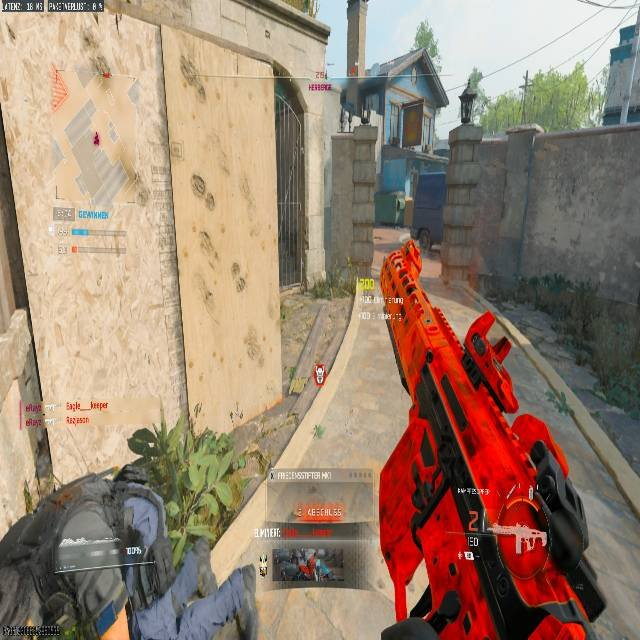player: (399, 238, 421, 293)
